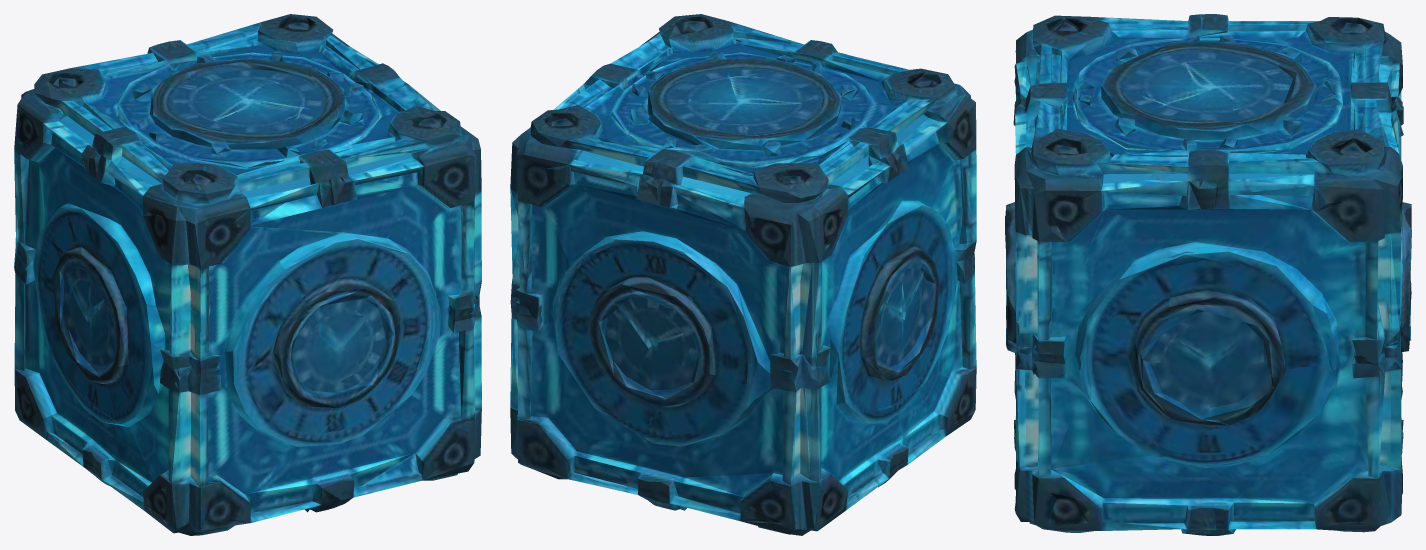
The model's file is mx_chrono_cube.glb.
3 views of the same model, side by side, from view 1: azimuth 30°, elevation 25°; view 2: azimuth 150°, elevation 25°; view 3: azimuth 270°, elevation 25° (orthographic). The views are drawn at different scales.
Size of the model in its own units: 1.82 by 1.89 by 1.82.
1 material, 1 textured.
